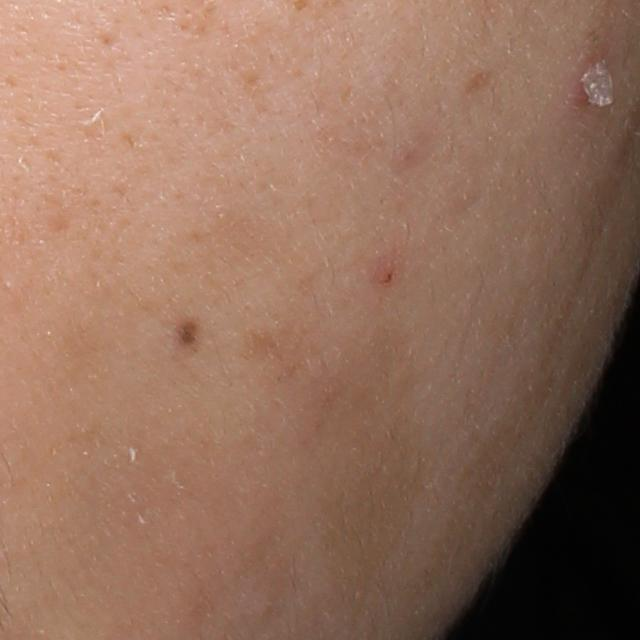nevus: (172, 318, 204, 354)
other: (580, 56, 618, 116)
papule: (371, 254, 403, 291)
